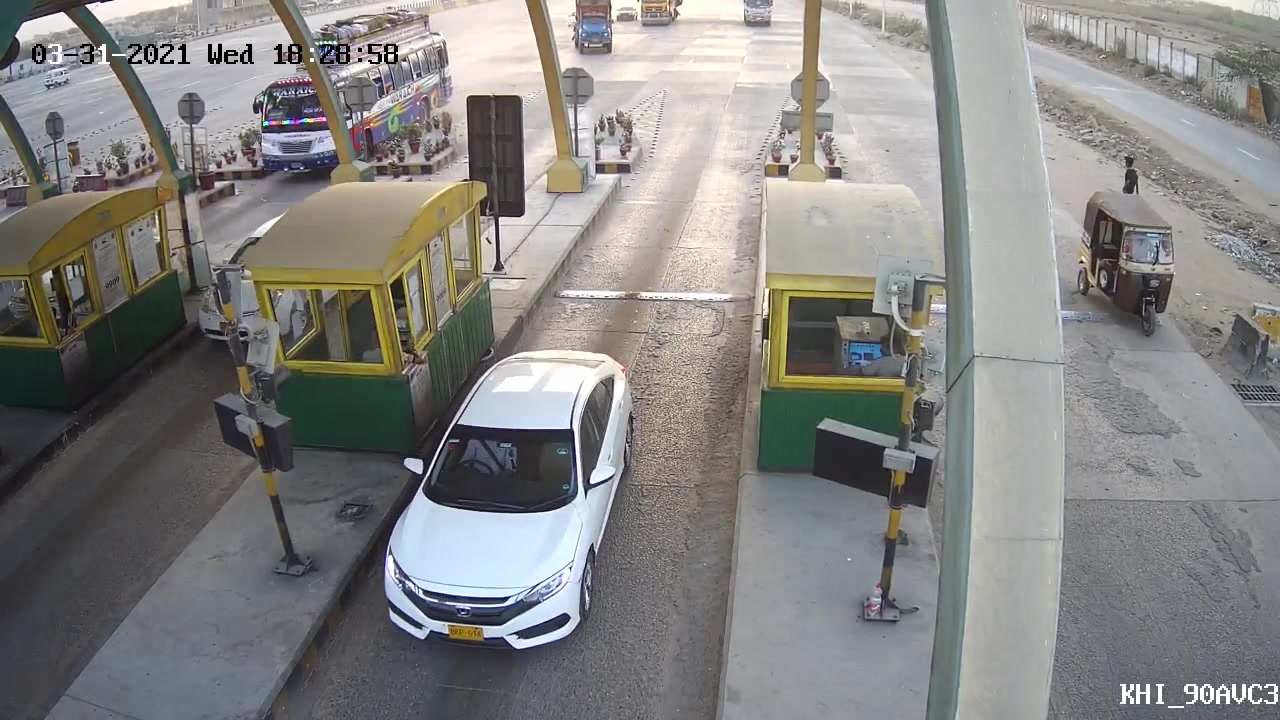F1: (376, 342, 644, 657)
